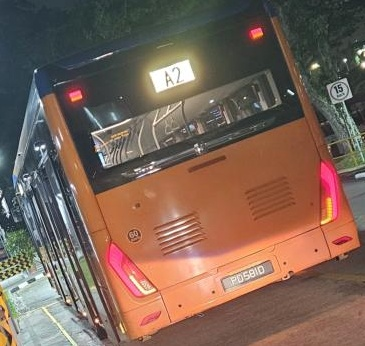bus: (150, 61, 195, 89)
